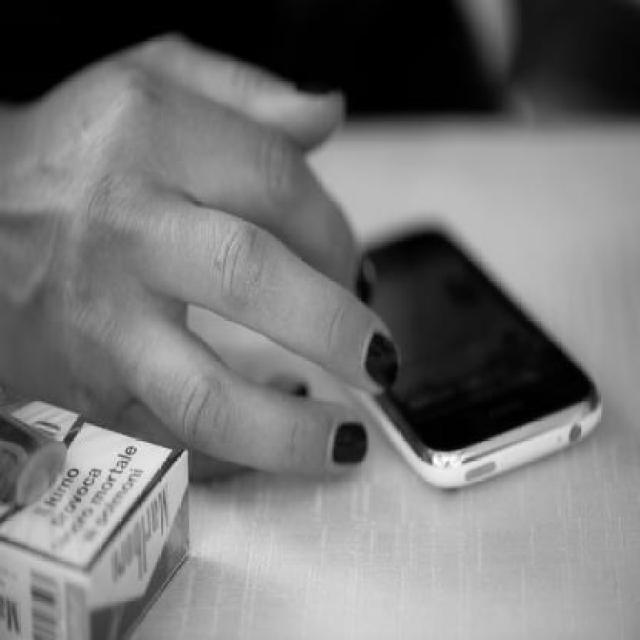phone: (304, 219, 601, 499)
